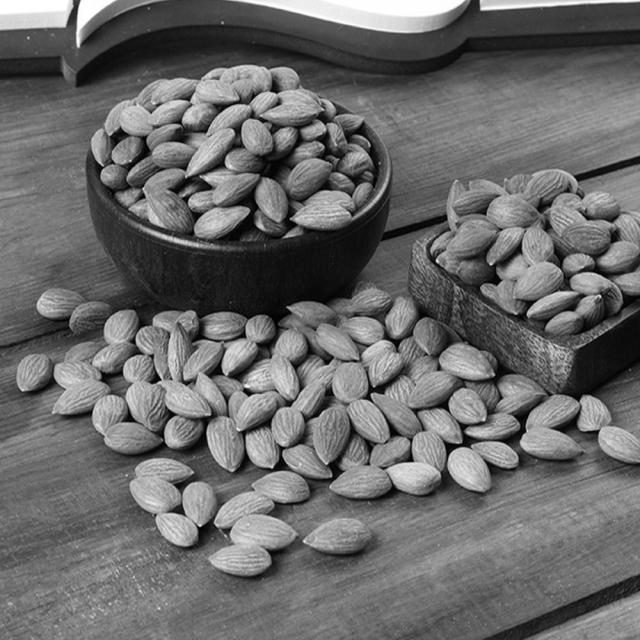Kayisi Cekirdegi: (206, 541, 273, 579), (307, 517, 371, 555), (447, 447, 495, 496), (335, 466, 392, 496), (130, 458, 197, 483), (255, 472, 311, 501), (295, 205, 354, 229), (186, 481, 217, 526), (41, 288, 83, 320), (161, 511, 196, 544)
